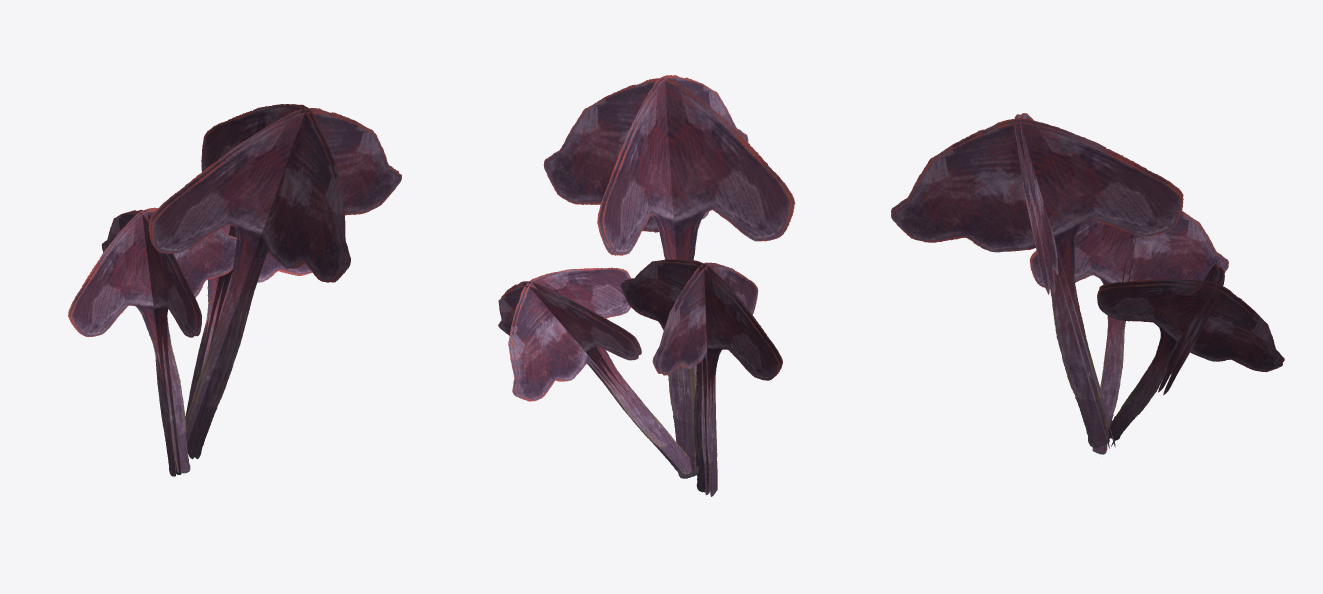
The model's file is PurpleMushroom3.fbx.
3 views of the same model, side by side, from view 1: azimuth 30°, elevation 25°; view 2: azimuth 150°, elevation 25°; view 3: azimuth 270°, elevation 25° (orthographic). The views are drawn at different scales.
Parts seen in each view (by area): view 1: PurpleMushroom3; view 2: PurpleMushroom3; view 3: PurpleMushroom3.
Boxes of the visible parts, <box> form: PurpleMushroom3: <box>68,104,401,476</box>; PurpleMushroom3: <box>498,75,795,496</box>; PurpleMushroom3: <box>891,113,1284,454</box>.
Bounding box in the file's own units: 270 × 329 × 289.
1 material, 1 textured.
